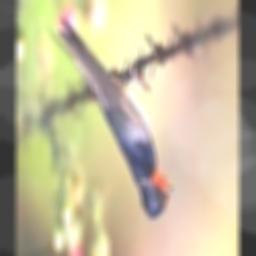Swallow: (47, 16, 174, 217)
